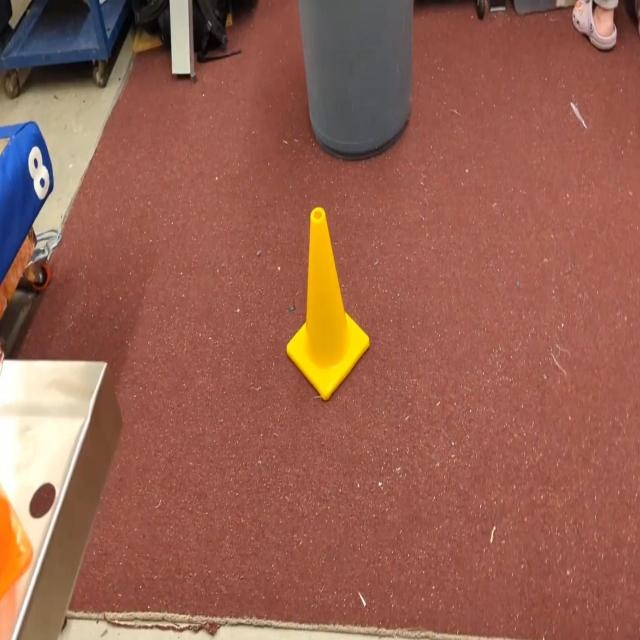frc_cone: (284, 205, 371, 405)
